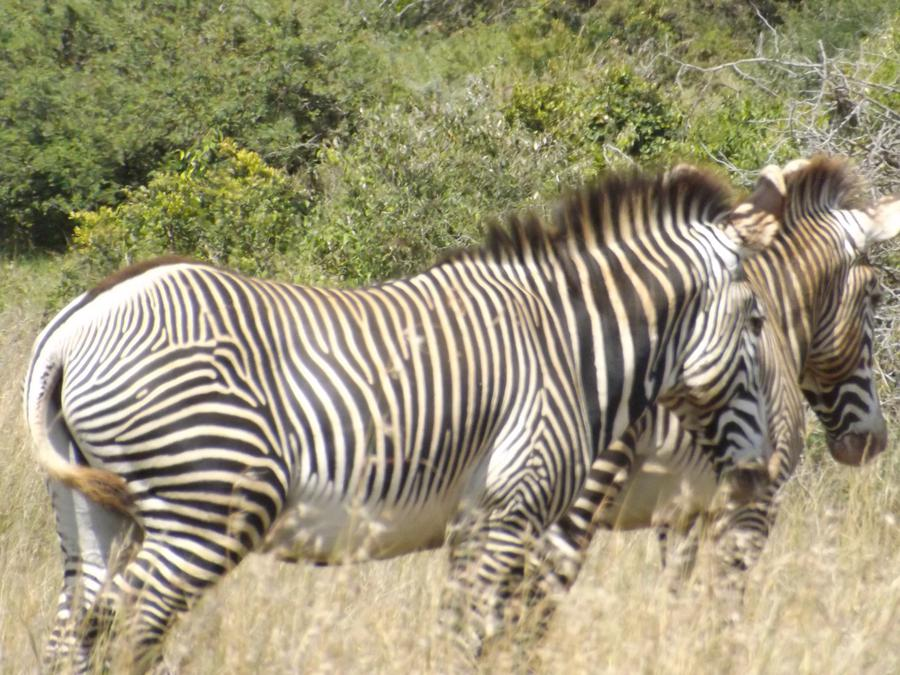zebra_grevys: (35, 252, 564, 517)
